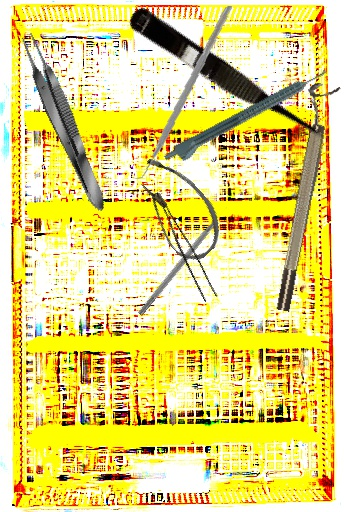Cannula: (118, 148, 235, 269)
Chopper: (112, 6, 246, 180)
Fixation Ring: (262, 81, 342, 313)
Handpiece: (160, 66, 334, 171)
Hook Surgical: (137, 204, 231, 318)
Micro Scissor: (121, 3, 335, 157)
Tissue Forceps: (13, 29, 114, 217), (144, 191, 221, 304)
